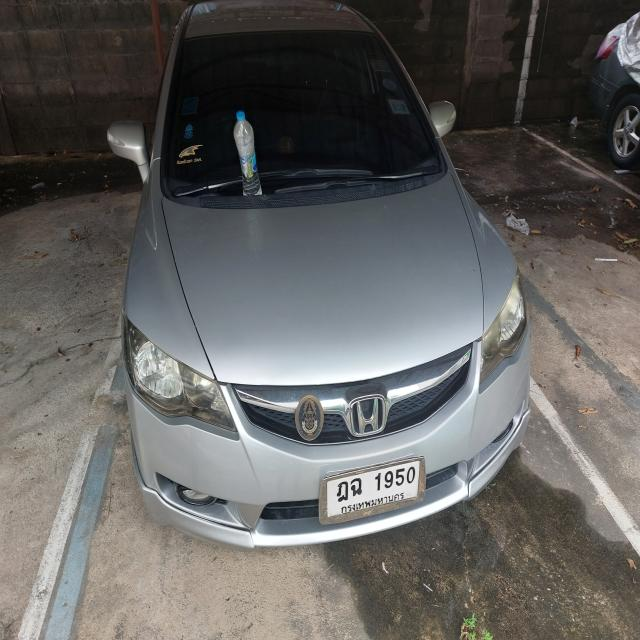license_plate: (316, 452, 429, 528)
